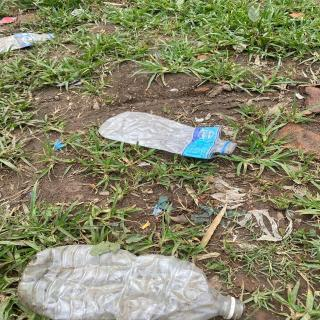Plastic-bottle: (14, 241, 249, 320), (98, 110, 242, 164), (1, 28, 62, 57)
